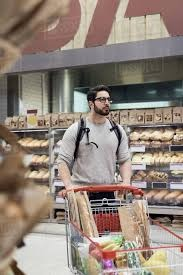with_basket: (64, 184, 183, 275)
without_mask: (88, 86, 112, 116)
